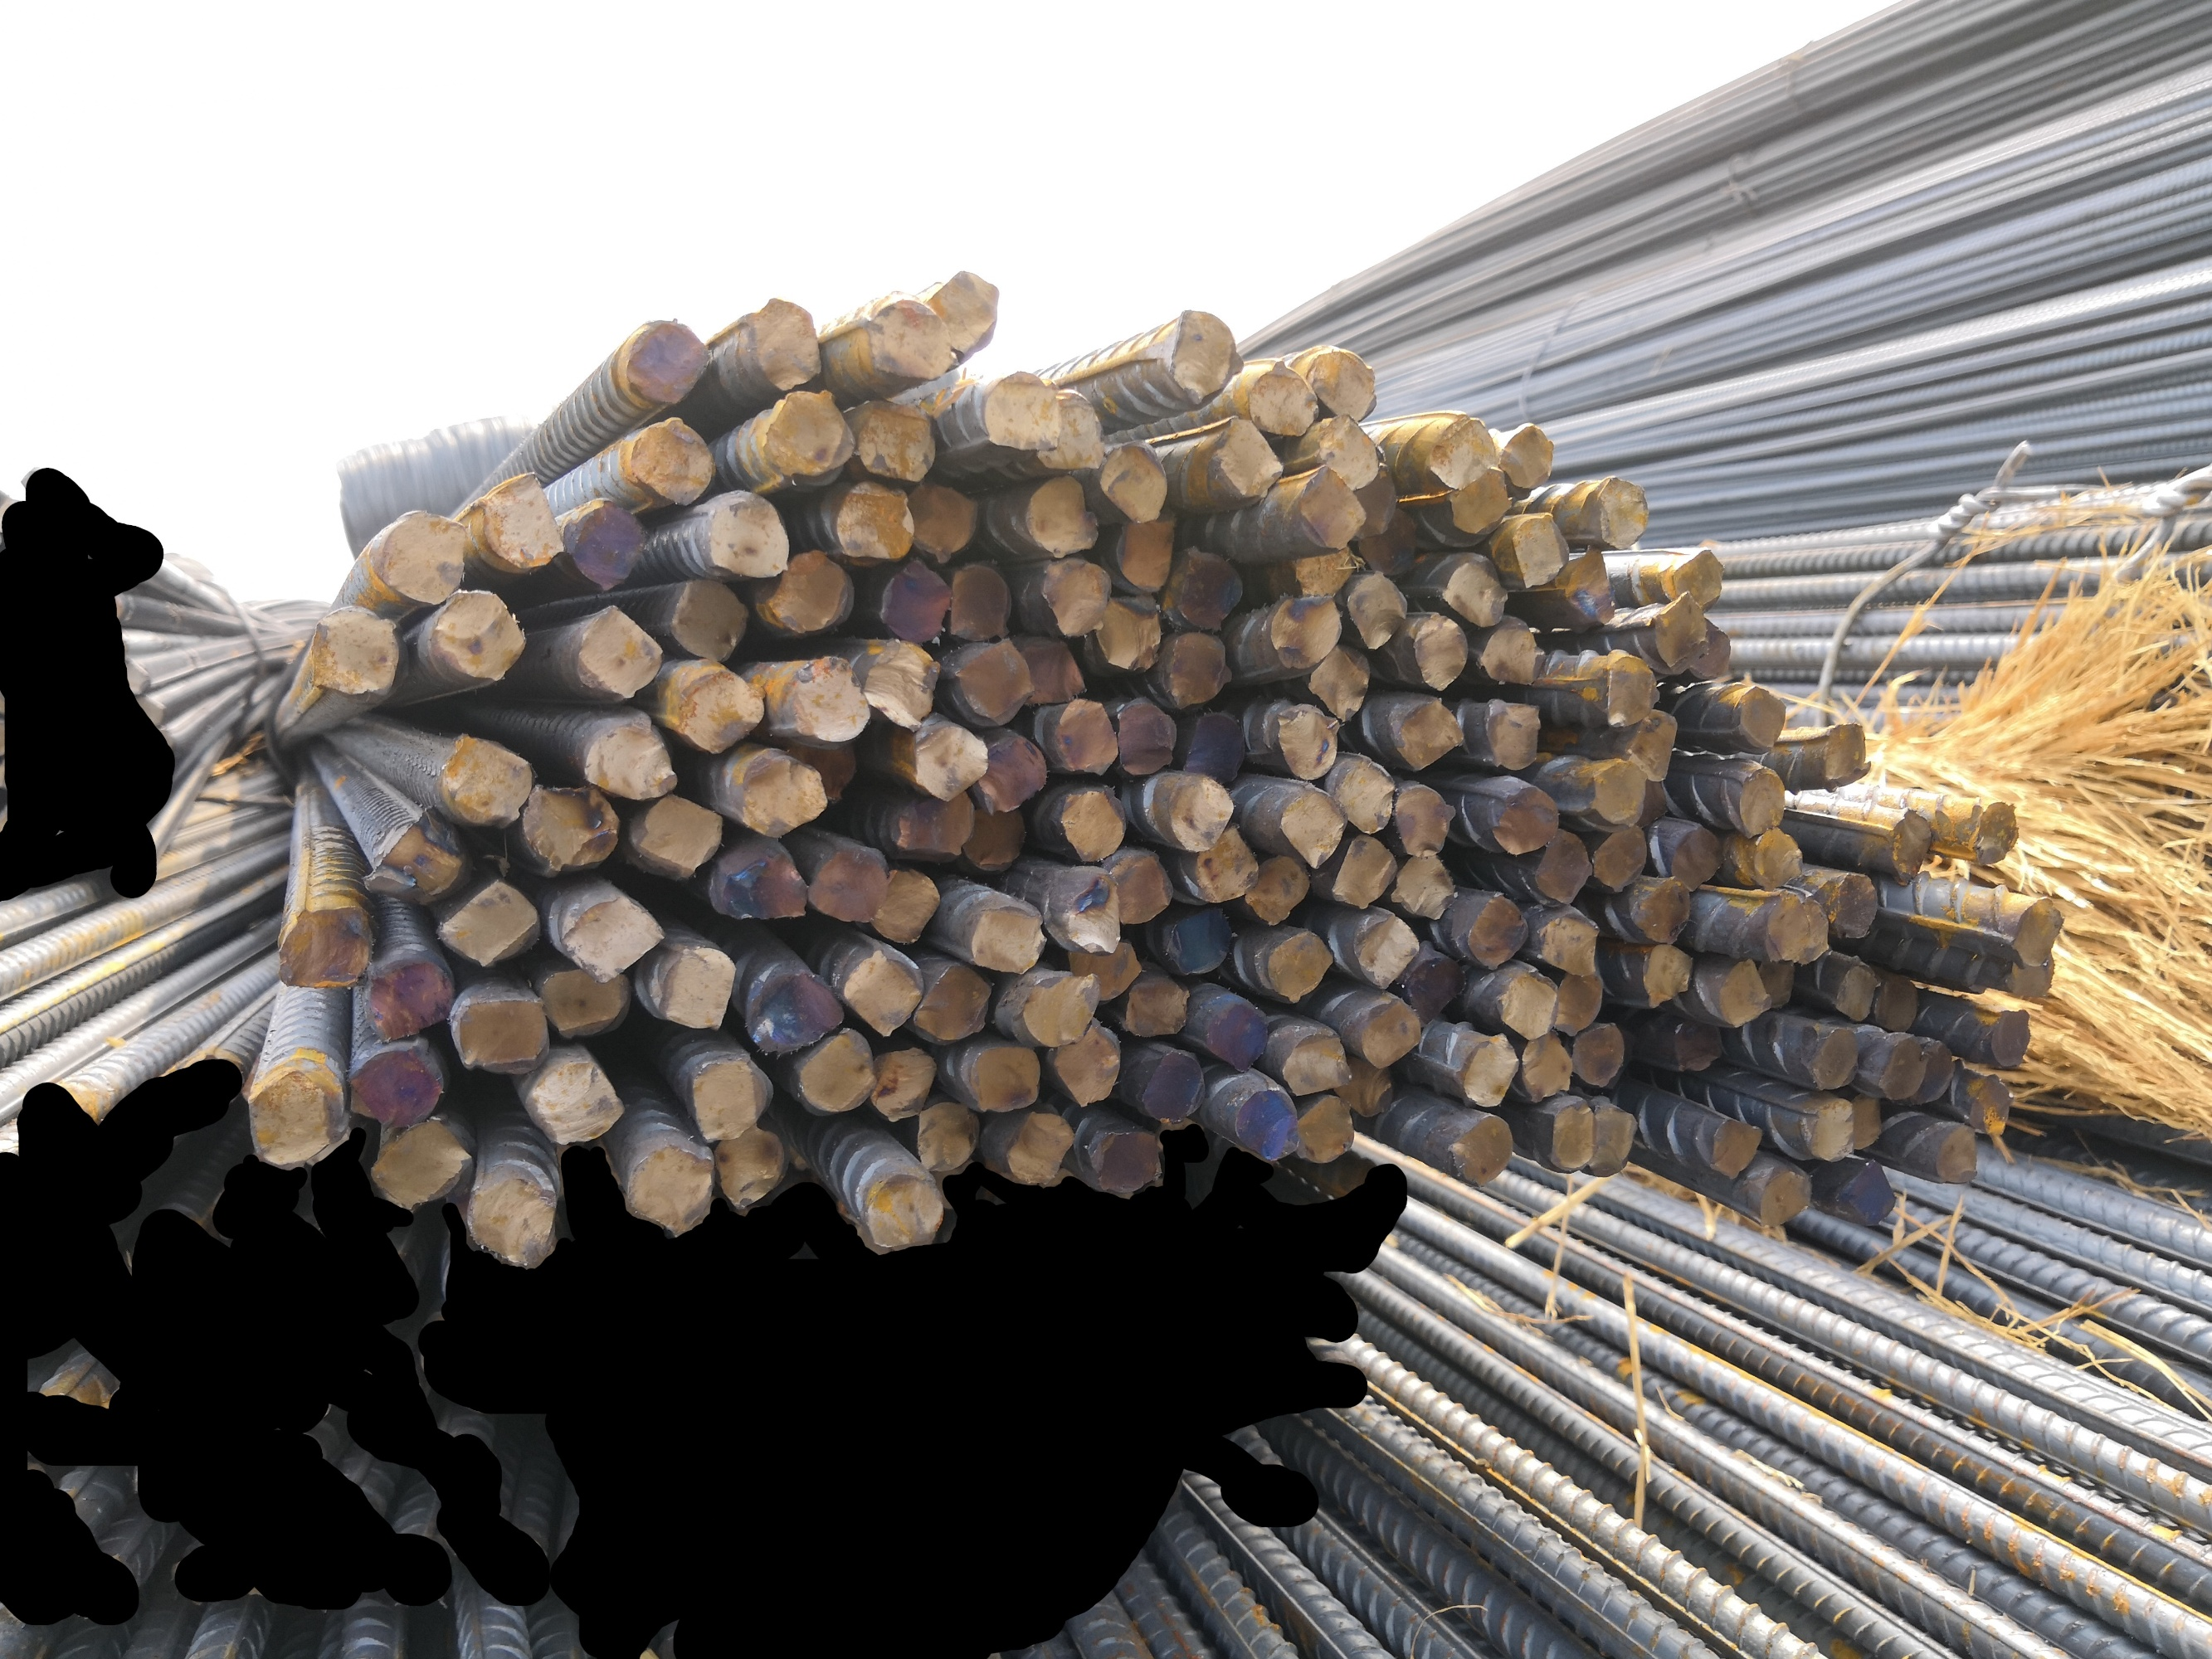rebar: (514, 774, 622, 878), (655, 657, 765, 760), (425, 878, 547, 971), (352, 810, 471, 903), (425, 730, 535, 829), (246, 1061, 343, 1173), (420, 587, 532, 685), (751, 383, 858, 484), (357, 1117, 467, 1215), (553, 892, 668, 985), (458, 1173, 565, 1272), (737, 967, 847, 1061), (302, 599, 403, 701), (577, 709, 683, 805), (621, 1141, 718, 1244), (368, 509, 471, 606), (471, 469, 568, 572), (612, 319, 722, 408), (275, 901, 375, 999), (621, 411, 720, 509), (753, 547, 856, 641), (1159, 298, 1245, 411), (343, 1040, 448, 1133), (697, 486, 795, 584), (568, 605, 664, 704), (450, 985, 551, 1079), (858, 293, 953, 390), (730, 751, 831, 843), (561, 491, 648, 598), (852, 1166, 950, 1258), (945, 640, 1039, 734), (851, 390, 943, 486), (781, 652, 879, 742), (525, 1058, 624, 1147), (856, 634, 945, 734), (706, 842, 812, 924), (361, 958, 455, 1051), (661, 572, 755, 664), (629, 791, 723, 884), (802, 838, 892, 934), (743, 291, 824, 396), (835, 945, 924, 1040), (1299, 333, 1384, 432), (683, 1058, 777, 1147), (894, 471, 985, 561), (1027, 549, 1116, 641), (922, 260, 1004, 359), (1166, 535, 1246, 636), (1150, 620, 1238, 713), (1044, 868, 1130, 960), (1210, 404, 1286, 507), (830, 477, 917, 566), (899, 716, 988, 803), (1021, 469, 1105, 561), (976, 368, 1063, 455), (1323, 737, 1398, 838), (795, 1025, 877, 1117), (1288, 458, 1367, 554), (654, 945, 739, 1032), (967, 728, 1051, 817), (1382, 692, 1471, 775), (863, 1040, 945, 1131), (1011, 969, 1107, 1046), (1084, 1119, 1171, 1202), (1239, 350, 1320, 441), (1032, 383, 1109, 477), (1267, 580, 1344, 674), (959, 897, 1049, 976), (542, 962, 634, 1039), (1093, 582, 1166, 678), (873, 558, 955, 643), (908, 958, 994, 1040), (1255, 927, 1340, 1009), (1224, 1082, 1304, 1169), (1307, 411, 1389, 495), (1482, 777, 1565, 859), (889, 784, 974, 864), (1048, 1025, 1126, 1112), (713, 1129, 790, 1218), (1091, 437, 1166, 528), (1457, 887, 1534, 974), (1304, 634, 1377, 725), (1384, 779, 1462, 863), (1349, 988, 1424, 1075), (1645, 587, 1720, 674), (1475, 685, 1548, 774), (945, 552, 1016, 643), (1276, 782, 1347, 873), (784, 730, 865, 810), (865, 864, 941, 948), (1346, 908, 1419, 995), (1055, 938, 1143, 1009), (1159, 901, 1239, 979), (908, 1100, 985, 1182), (1163, 770, 1239, 852), (1098, 847, 1175, 929), (1001, 1108, 1075, 1192), (1192, 992, 1267, 1075), (1271, 697, 1342, 784), (1276, 1023, 1354, 1101), (1009, 633, 1089, 709), (1443, 1110, 1520, 1190), (1189, 823, 1260, 908), (1501, 509, 1572, 594), (959, 795, 1035, 873), (964, 1039, 1042, 1115), (1325, 828, 1398, 910), (1335, 568, 1407, 652), (1051, 695, 1121, 781), (1135, 1044, 1203, 1131), (1550, 544, 1616, 633), (1055, 782, 1126, 864), (1290, 1089, 1361, 1171), (1386, 840, 1457, 922), (1588, 648, 1659, 730), (1112, 511, 1180, 596), (1532, 823, 1598, 910), (1239, 850, 1313, 929), (1536, 899, 1605, 981), (1180, 706, 1248, 789), (1110, 692, 1177, 777), (1410, 608, 1476, 694), (1455, 1032, 1527, 1110), (2008, 885, 2071, 974), (1480, 612, 1548, 694), (1426, 416, 1499, 491), (1435, 558, 1511, 629), (1449, 455, 1513, 538), (1762, 890, 1832, 967), (1706, 951, 1773, 1032), (1584, 817, 1654, 892), (1590, 471, 1654, 551), (1816, 864, 1881, 945), (1346, 457, 1405, 544), (1564, 1019, 1633, 1093), (1790, 1093, 1858, 1168), (1403, 950, 1464, 1032), (1494, 965, 1564, 1037), (1581, 760, 1652, 829), (1625, 878, 1698, 946), (1630, 938, 1698, 1011), (1729, 680, 1792, 758), (1881, 802, 1937, 889), (1511, 1032, 1578, 1105), (1701, 1112, 1768, 1185), (1665, 819, 1727, 896), (1733, 829, 1809, 892), (1117, 979, 1191, 1044), (1731, 763, 1790, 842), (1752, 1162, 1818, 1232), (1682, 613, 1747, 685), (1926, 1117, 1987, 1192), (1802, 1023, 1862, 1100), (1835, 1157, 1898, 1229), (1543, 1093, 1598, 1173), (1584, 1101, 1640, 1182), (1283, 542, 1356, 603), (1497, 418, 1558, 491), (1621, 706, 1679, 782), (1663, 1009, 1729, 1075), (1811, 720, 1874, 789), (1668, 544, 1729, 615), (1339, 1049, 1398, 1122), (1968, 793, 2022, 873), (1985, 995, 2034, 1080), (1361, 511, 1421, 580), (1877, 1028, 1928, 1108), (1553, 964, 1607, 1035), (1867, 958, 1917, 1033), (2001, 943, 2064, 1000), (1966, 1068, 2015, 1141), (1837, 1087, 1886, 1157), (1752, 950, 1801, 1019), (1917, 1030, 1956, 1117), (1829, 958, 1877, 1025), (1625, 767, 1677, 828)
